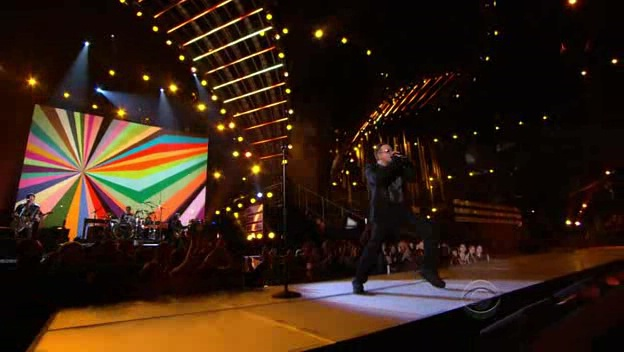person: (362, 139, 422, 247), (359, 139, 419, 247), (365, 139, 425, 247), (362, 136, 422, 244), (362, 142, 422, 250)
target_negative: (160, 51, 303, 214), (272, 148, 345, 324), (170, 247, 315, 315), (196, 291, 406, 319), (446, 237, 610, 261), (378, 278, 494, 290)
